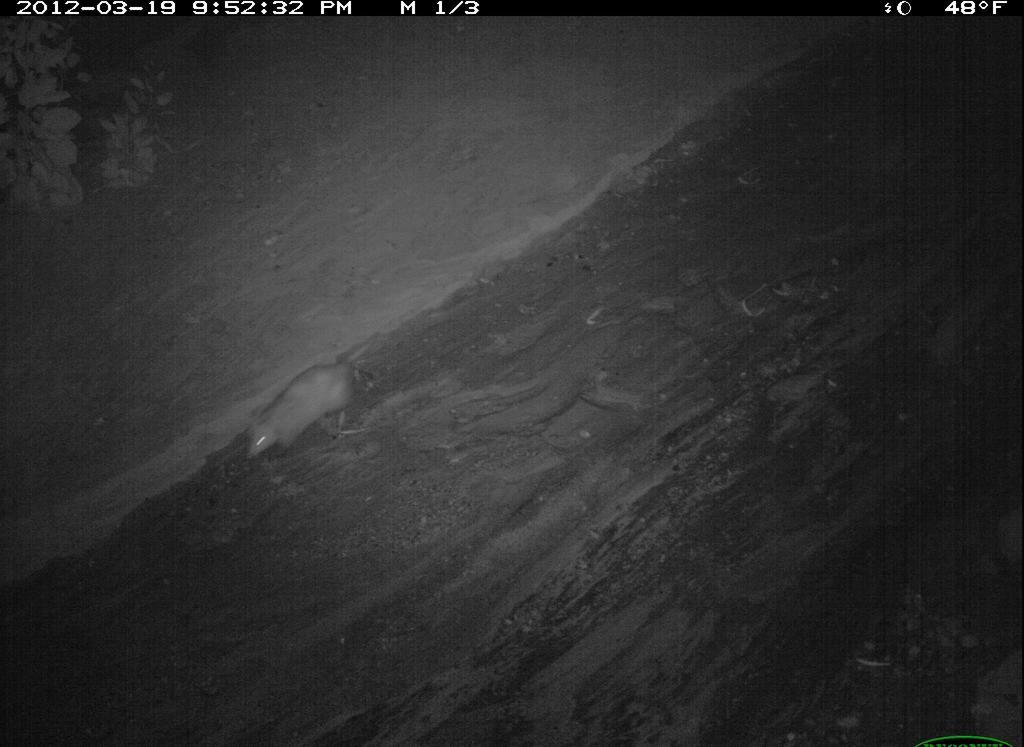opossum: (468, 654, 778, 747)
